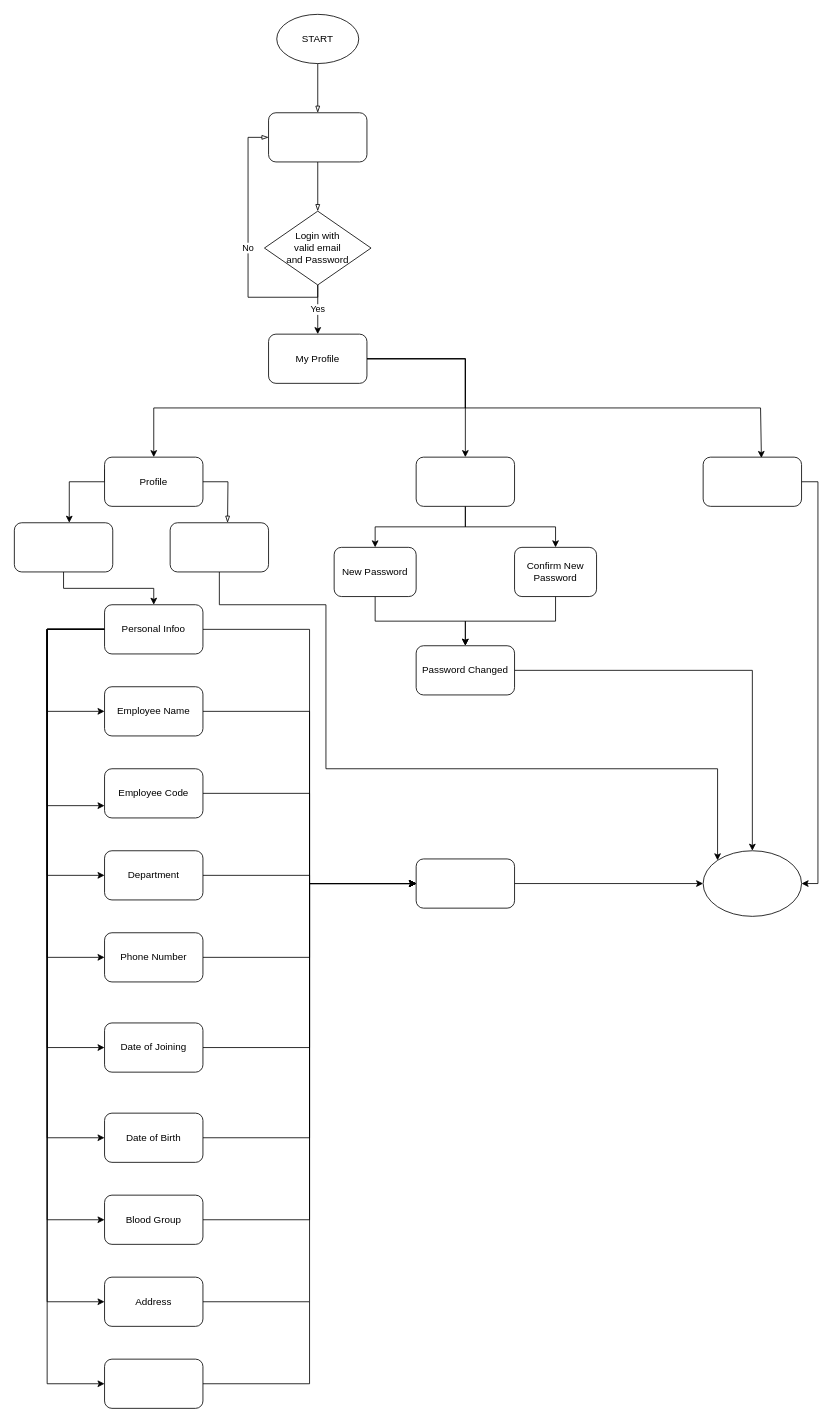
This 839x1423 diagram has some shape labels left out. Here are the shapes that lost their labels. From the top down, the centre of each, then its label:
At point (317, 137): "LogIn".
At point (465, 481): "Change Password".
At point (752, 481): "Logout".
At point (63, 547): "Account's Info".
At point (219, 547): "Overview".
At point (465, 883): "Information Saved".
At point (752, 883): "End".
At point (153, 1383): "Profile Picture".
